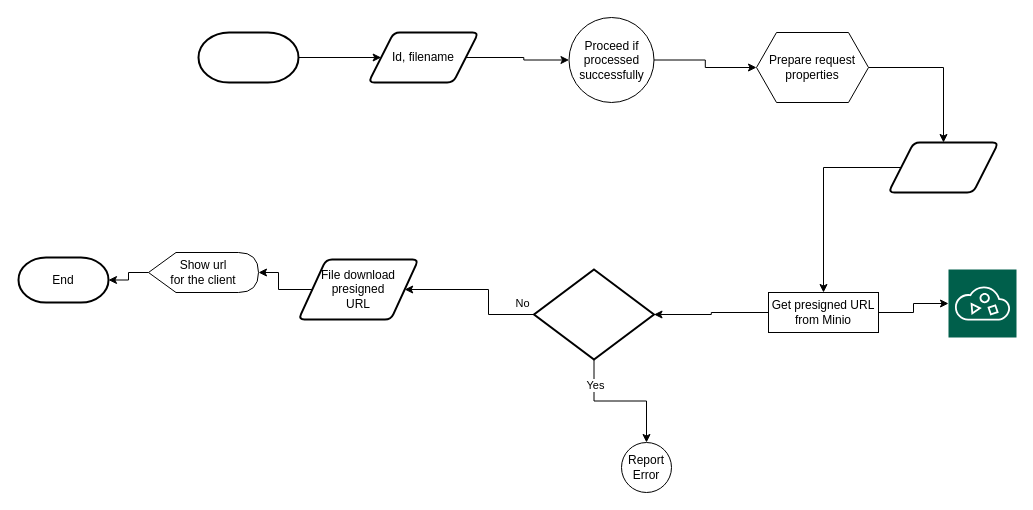
Some shapes in this 1033 by 510 pixel diagram are drawn without their labels. Each missing label, with the centre of its shape:
"Filepath, url params" belongs at [943,167].
"Minio" belongs at [982,303].
"Minio error happened" belongs at [593,314].
"User requested file download URL" belongs at [248,57].
